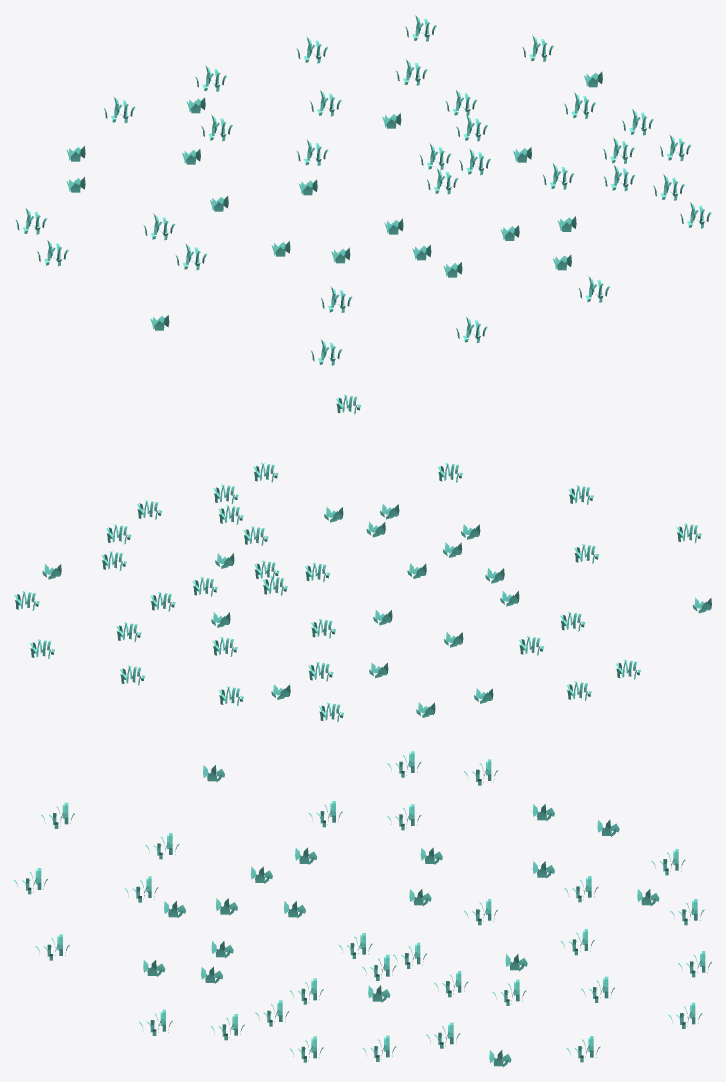
File: kusa.fbx
The picture shows the model from 3 angles, top to bottom: view 1: azimuth 30°, elevation 25°; view 2: azimuth 150°, elevation 25°; view 3: azimuth 270°, elevation 25°; orthographic projection. The views are drawn at different scales.
Visible parts, largest first — view 1: grass34; view 2: grass34; view 3: grass34.
Boxes of the visible parts, bbox=[...] form: grass34: bbox=[15, 14, 711, 365]; grass34: bbox=[14, 394, 711, 722]; grass34: bbox=[14, 751, 711, 1067].
Size of the model in its own units: 41.4 by 7.72 by 40.35.
